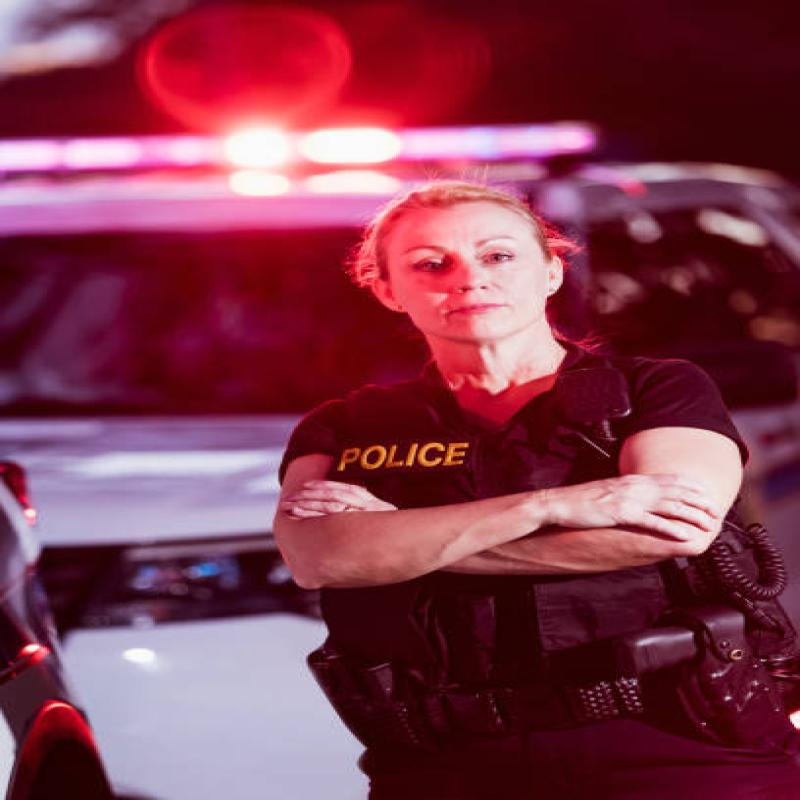AmbulanceSiren: (0, 112, 624, 229)
